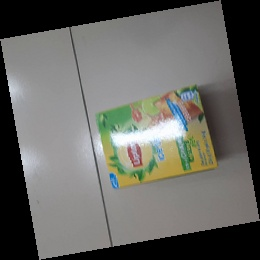LipTon: (95, 84, 218, 188)
